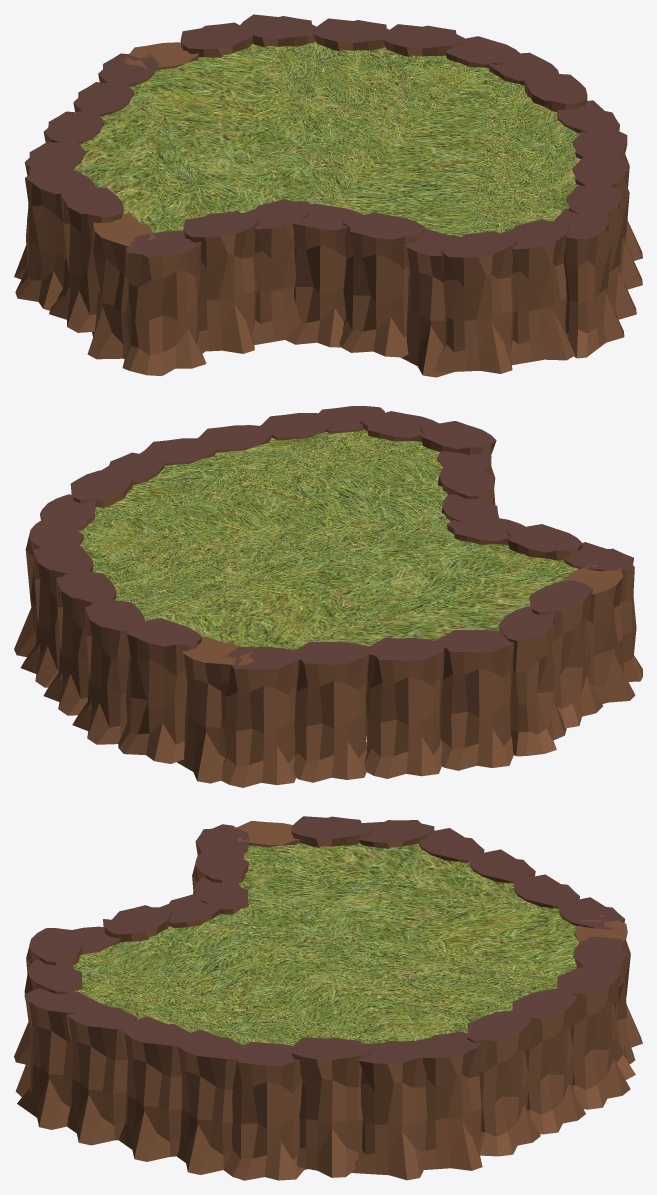
Rendered from structure_cliff_1.fbx.
3 renders of one model, top to bottom at view 1: azimuth 30°, elevation 25°; view 2: azimuth 150°, elevation 25°; view 3: azimuth 270°, elevation 25°, orthographic. The views are drawn at different scales.
Parts seen in each view (by area): view 1: Cylinder.008, Plane; view 2: Cylinder.008, Plane; view 3: Cylinder.008, Plane.
Boxes of the visible parts, x1,y1,x2,y2 form: Cylinder.008: [14, 14, 642, 377]; Plane: [73, 42, 580, 236]; Cylinder.008: [14, 406, 642, 787]; Plane: [78, 429, 579, 650]; Cylinder.008: [14, 816, 642, 1180]; Plane: [73, 843, 579, 1045].
Size of the model in its own units: 2476 by 537 by 2563.
